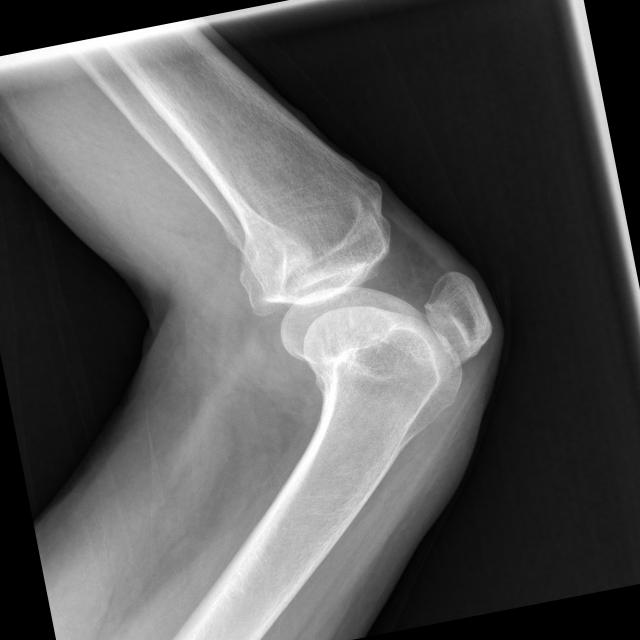Knee: (233, 170, 512, 440)
